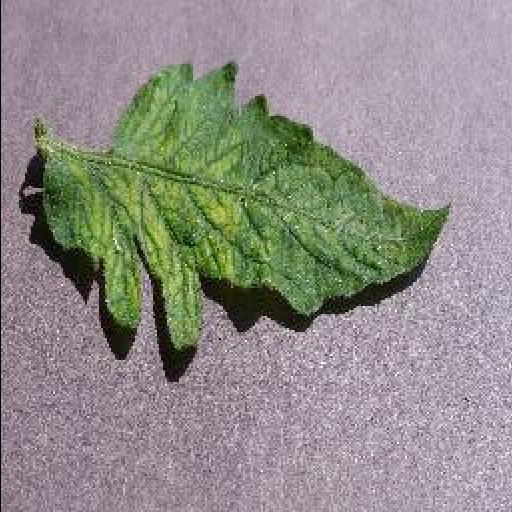disease_tomato: (40, 62, 454, 346)
